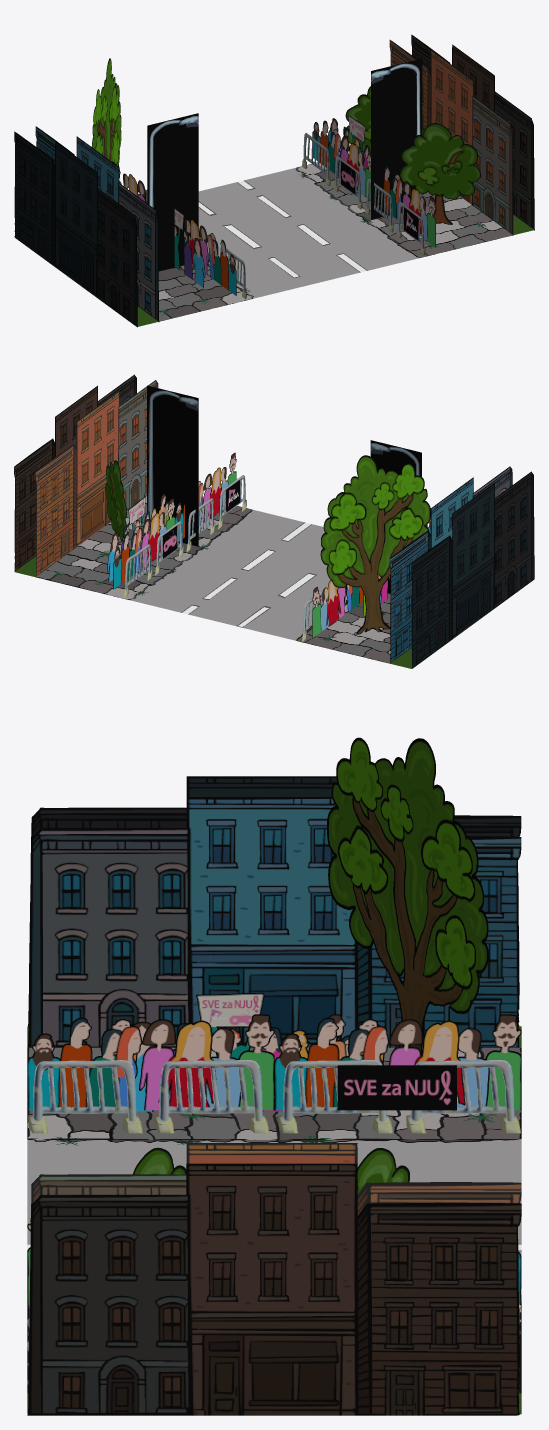
The model's file is Scene2_backface.fbx.
3 renders of one model, top to bottom at view 1: azimuth 30°, elevation 25°; view 2: azimuth 150°, elevation 25°; view 3: azimuth 270°, elevation 25°, orthographic. The views are drawn at different scales.
Parts seen in each view (by area): view 1: Road.002, Buildings-Dark-L.001, Buildings2-Light-R.001, Lamp-Post-L.001, Lamp-Post-R.001, Tree.007, Buildings2-Dark-R.001, Buildings-Light-L.001, Tree-Big, crowd.005, crowd.006, crowd.004 (+8 smaller); view 2: Road.002, Buildings-Dark-L.001, Buildings2-Light-R.001, Tree-Big, Lamp-Post-R.001, Buildings-Light-L.001, Buildings2-Dark-R.001, crowd.005, crowd.008, crowd.004, Lamp-Post-L.001, Tree.006 (+5 smaller); view 3: Buildings2-Dark-R.001, Buildings-Light-L.001, Tree-Big, Road.002, crowd.006, crowd.008, Buildings2-Light-R.001, Buildings-Dark-L.001, Logo_sznj.001, Fence-L.004, Fence-L.005, crowd2.002 (+4 smaller).
Boxes of the visible parts, bbox=[...] form: Road.002: bbox=[14, 152, 533, 326]; Buildings-Dark-L.001: bbox=[14, 131, 137, 327]; Buildings2-Light-R.001: bbox=[389, 40, 513, 235]; Lamp-Post-L.001: bbox=[147, 113, 198, 271]; Lamp-Post-R.001: bbox=[371, 58, 422, 219]; Tree.007: bbox=[399, 123, 480, 224]; Buildings2-Dark-R.001: bbox=[411, 34, 534, 230]; Buildings-Light-L.001: bbox=[35, 126, 159, 321]; Tree-Big: bbox=[91, 58, 121, 166]; crowd.005: bbox=[312, 120, 370, 199]; crowd.006: bbox=[185, 219, 236, 295]; crowd.004: bbox=[384, 166, 435, 247]; Road.002: bbox=[14, 496, 530, 668]; Buildings-Dark-L.001: bbox=[411, 471, 534, 668]; Buildings2-Light-R.001: bbox=[35, 380, 158, 576]; Tree-Big: bbox=[320, 455, 430, 634]; Lamp-Post-R.001: bbox=[147, 385, 198, 546]; Buildings-Light-L.001: bbox=[389, 466, 512, 662]; Buildings2-Dark-R.001: bbox=[14, 374, 136, 571]; crowd.005: bbox=[113, 498, 174, 589]; crowd.008: bbox=[312, 580, 363, 637]; crowd.004: bbox=[175, 452, 236, 541]; Lamp-Post-L.001: bbox=[370, 440, 421, 593]; Tree.006: bbox=[105, 460, 127, 540]; Buildings2-Dark-R.001: bbox=[27, 1163, 521, 1415]; Buildings-Light-L.001: bbox=[28, 797, 521, 1047]; Tree-Big: bbox=[327, 737, 488, 1055]; Road.002: bbox=[27, 1026, 521, 1414]; crowd.006: bbox=[27, 1014, 274, 1110]; crowd.008: bbox=[274, 1014, 521, 1110]; Buildings2-Light-R.001: bbox=[28, 1143, 521, 1393]; Buildings-Dark-L.001: bbox=[28, 776, 521, 1026]; Logo_sznj.001: bbox=[337, 1065, 456, 1110]; Fence-L.004: bbox=[154, 1060, 269, 1133]; Fence-L.005: bbox=[28, 1060, 142, 1133]; crowd2.002: bbox=[133, 992, 349, 1111].
Bounding box in the file's own units: 1115 × 480 × 601.
17 materials, 16 textured.
